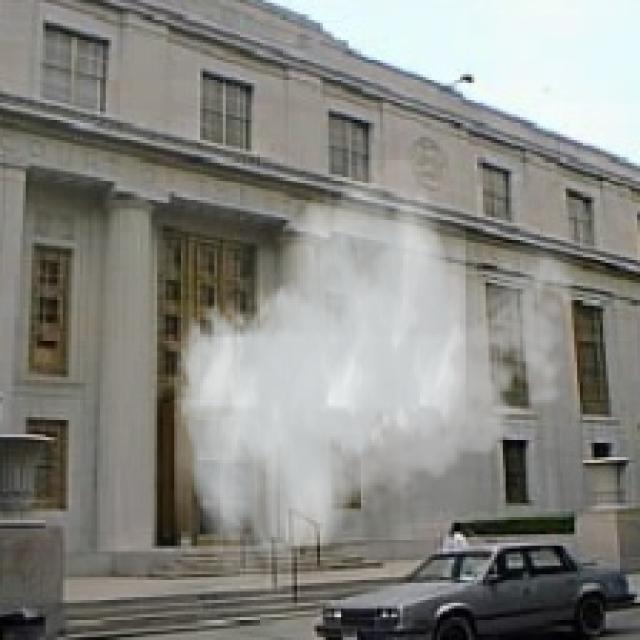smoke: (174, 160, 589, 583)
